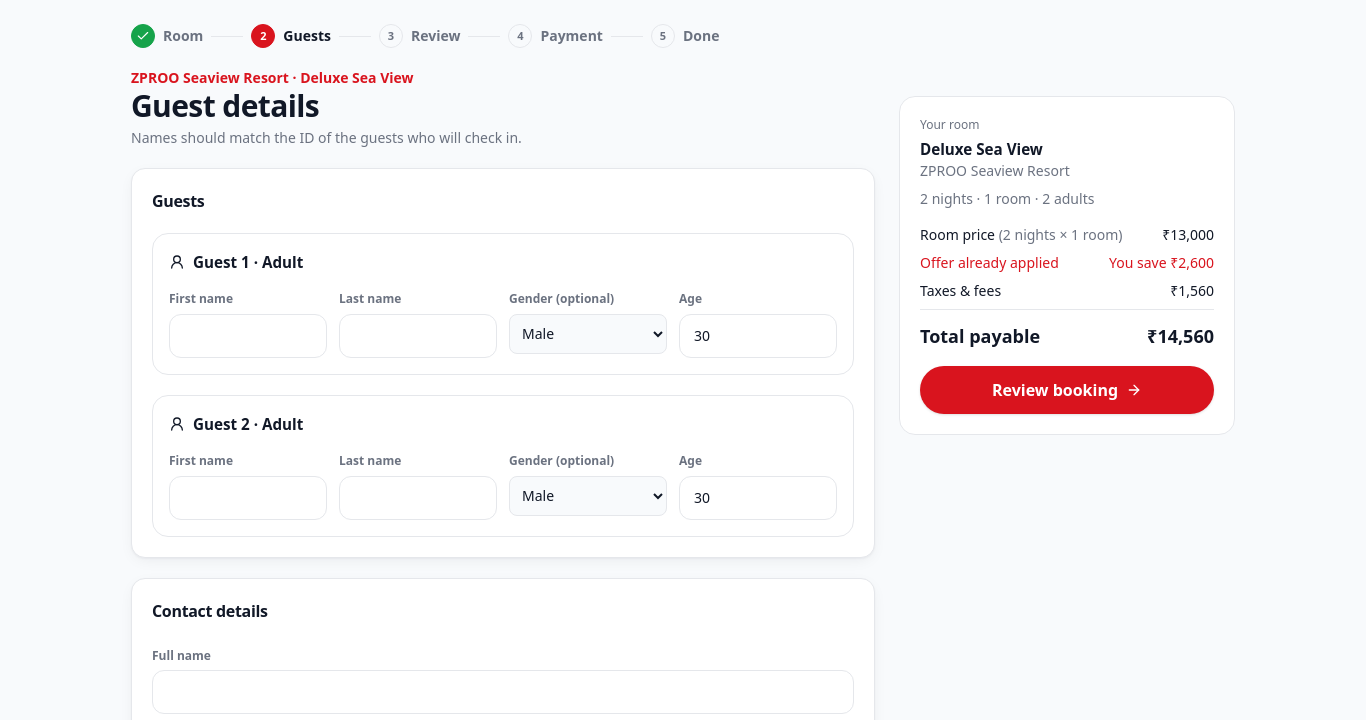
Test: guest details › blocks digits in names and letters in the mobile number
Step 1. Type "Asha 99 Patil!" into the field labelled "Full name" → (503, 692), box [152,670,854,714]
(page scrolled)
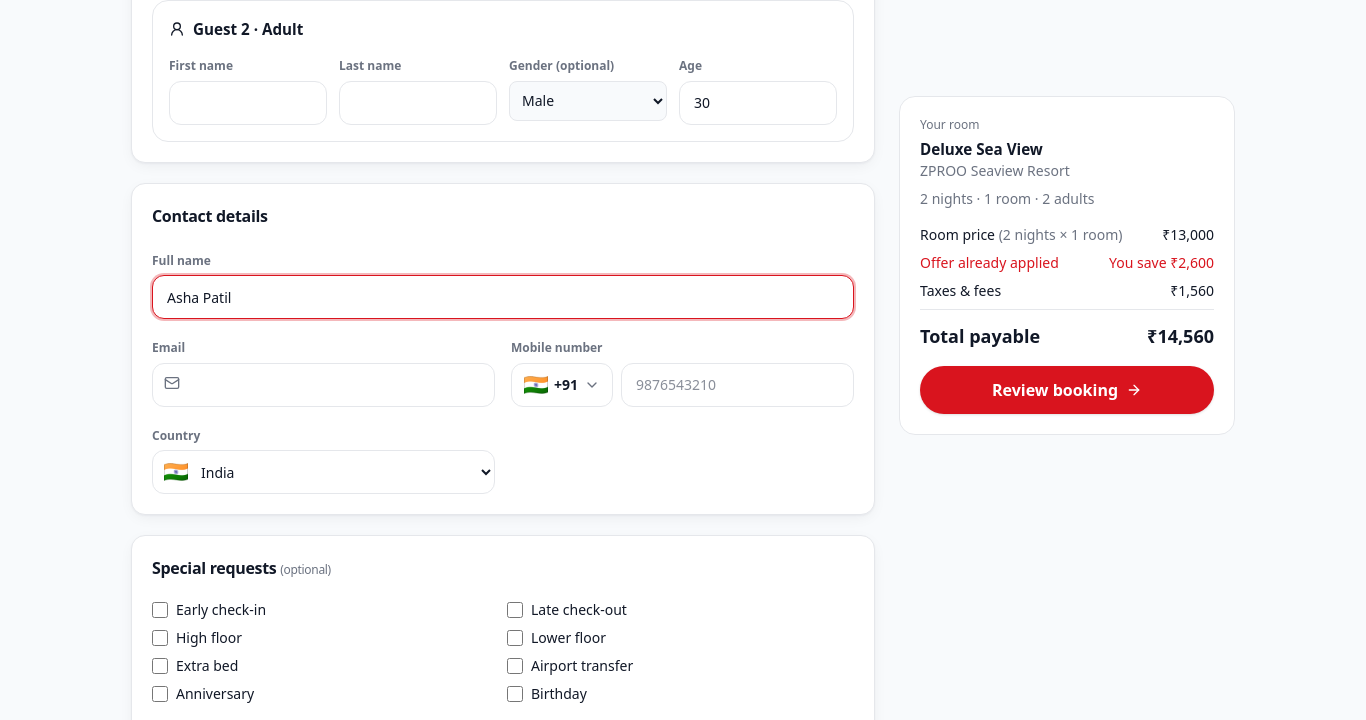
Check: the field labelled "Full name" holds "Asha Patil", box [152,275,854,319]
Step 2. Type "98ab76543210999" into the field labelled "Mobile number" → (738, 385), box [621,363,854,407]
(page scrolled)
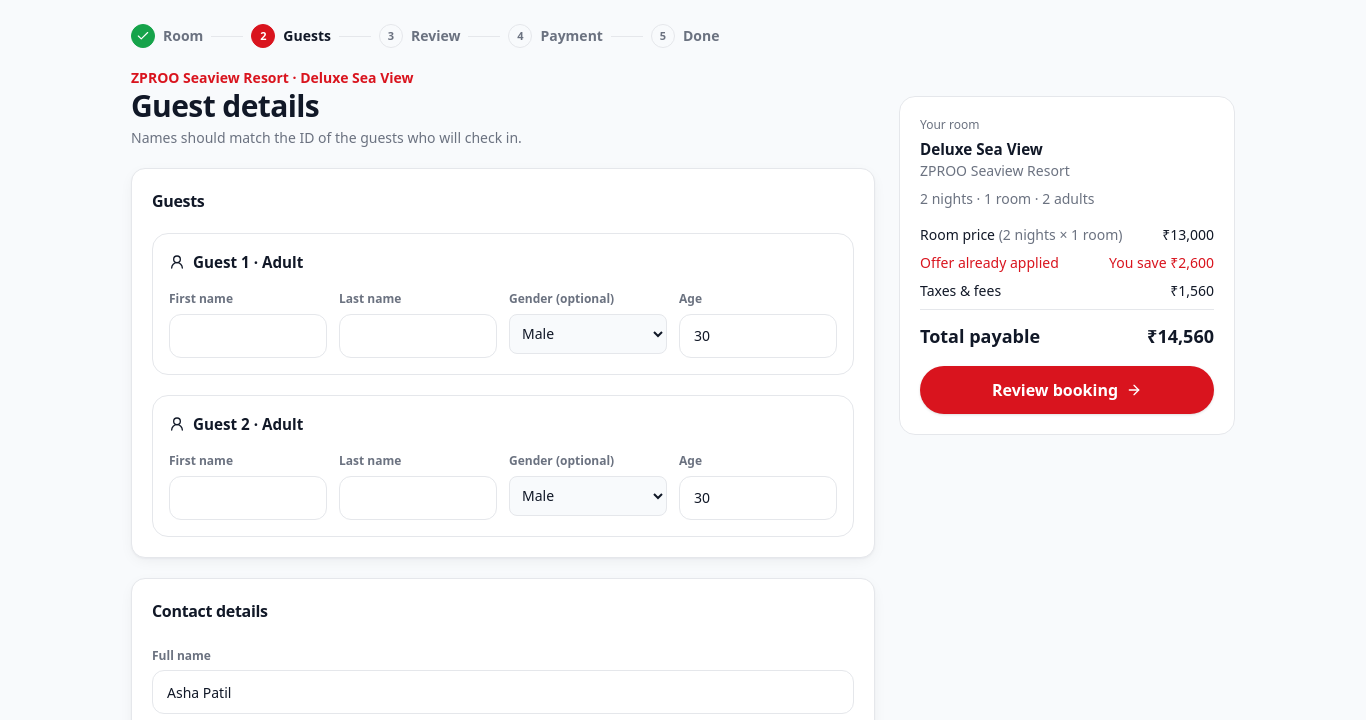
Step 3. Type "R2D2" into the 1st field labelled "First name" → (248, 336), box [169,314,327,358]
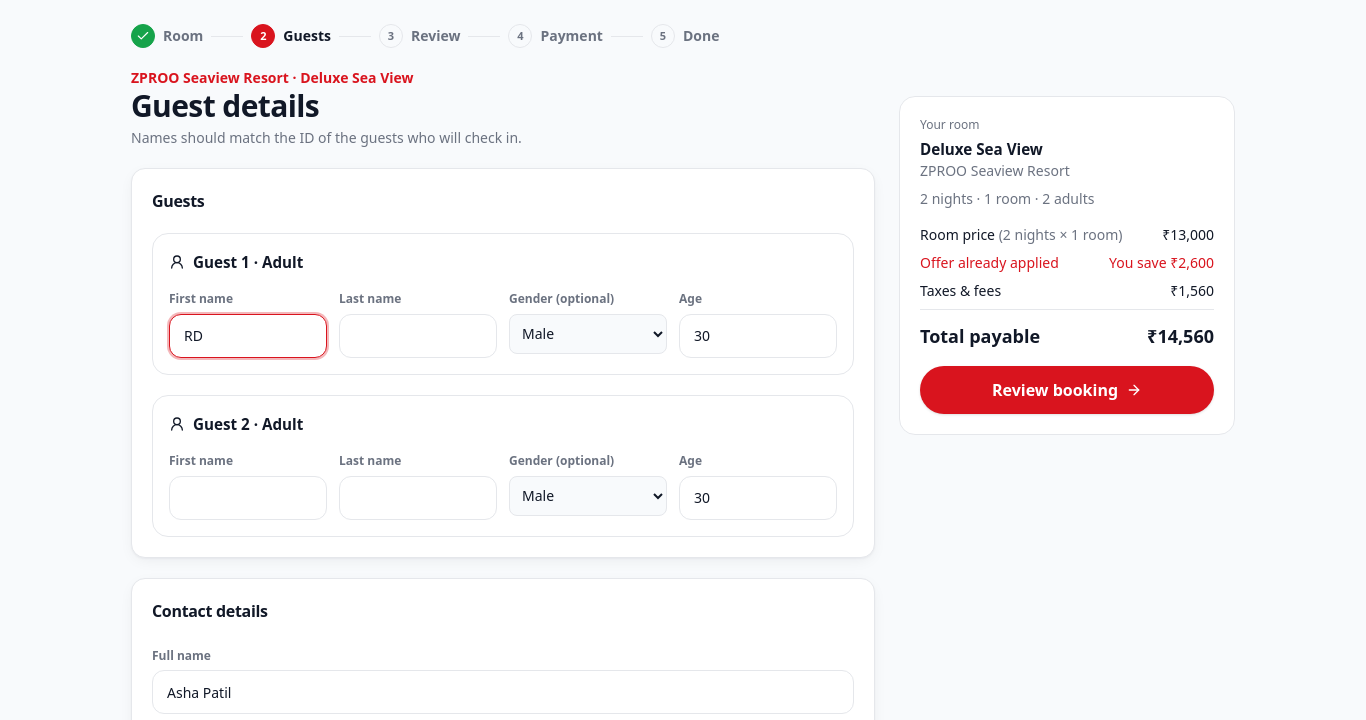
Check: the 1st field labelled "First name" holds "RD", box [169,314,327,358]
